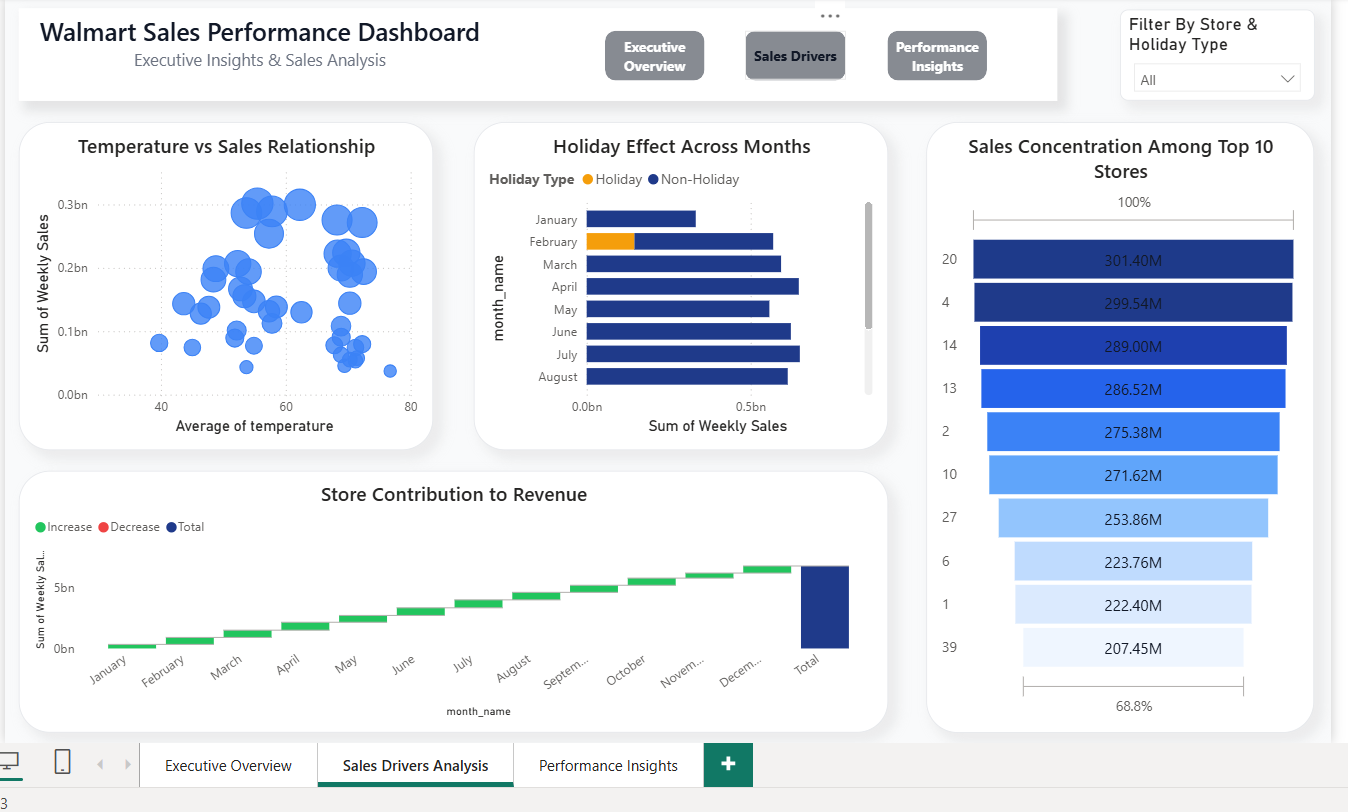

The page's visual inventory and layout, read from the dashboard file:
{"tool":"powerbi","page":{"name":"Sales Drivers Analysis","canvas":[1280,720],"ordinal":1},"visuals":[{"type":"scatterChart","title":"Temperature vs Sales Relationship","fields":{"X":["Avg(Walmart Sales.temperature)"],"Y":["Sum(Walmart Sales.Weekly Sales)"],"Size":["Sum(Walmart Sales.Weekly Sales)"],"Category":["Walmart Sales.Store"]},"box":[13.5,121.1,400,316.7],"z":0},{"type":"barChart","title":"Holiday Effect Across Months","fields":{"Category":["Walmart Sales.month_name"],"Y":["Sum(Walmart Sales.Weekly Sales)"],"Series":["Walmart Sales.Holiday Type"]},"box":[452.4,121.1,400,316.7],"z":1000},{"type":"waterfallChart","title":"Store Contribution to Revenue","fields":{"Category":["Walmart Sales.month_name"],"Y":["Sum(Walmart Sales.Weekly Sales)"]},"box":[13.5,457.3,838.9,253.1],"z":3000},{"type":"funnel","title":"Sales Concentration Among Top 10 Stores","fields":{"Category":["Walmart Sales.Store"],"Y":["Sum(Walmart Sales.Weekly Sales)"]},"box":[889,121.1,374.2,589.4],"z":4000},{"type":"slicer","title":"Filter By Store  & Holiday Type","fields":{"Values":["Walmart Sales.Store","Walmart Sales.Holiday Type"]},"box":[1076,12,188,88],"z":5000},{"type":"shape","box":[13.3,10.7,1002.7,89.3],"z":5001},{"type":"textbox","box":[0,12,492,100],"z":5002},{"type":"actionButton","box":[578.7,32,96,48],"z":5003},{"type":"actionButton","box":[714.7,32,97.3,48],"z":5004},{"type":"actionButton","box":[852,32,96,48],"z":5005}]}

Visuals, with their boxes on the page's 1280x720 design canvas (x1, y1, x2, y2). These are canvas units, not pixel positions in the 1348x812 screenshot, which may show the page scaled, cropped or inside an application window:
"Temperature vs Sales Relationship" scatterChart: left=14, top=121, right=414, bottom=438
"Holiday Effect Across Months" barChart: left=452, top=121, right=852, bottom=438
"Store Contribution to Revenue" waterfallChart: left=14, top=457, right=852, bottom=710
"Sales Concentration Among Top 10 Stores" funnel: left=889, top=121, right=1263, bottom=710
"Filter By Store  & Holiday Type" slicer: left=1076, top=12, right=1264, bottom=100
shape: left=13, top=11, right=1016, bottom=100
textbox: left=0, top=12, right=492, bottom=112
actionButton: left=579, top=32, right=675, bottom=80
actionButton: left=715, top=32, right=812, bottom=80
actionButton: left=852, top=32, right=948, bottom=80
